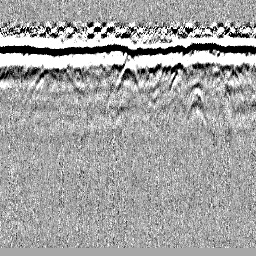cavity: (115, 60, 142, 96)
